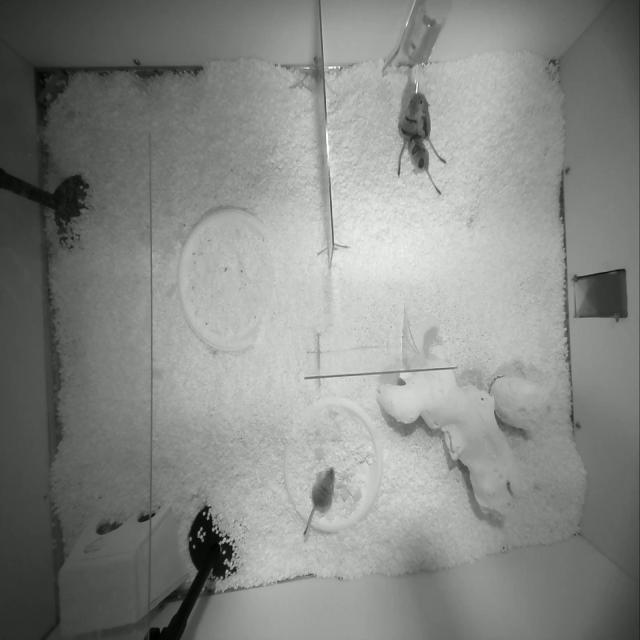pup_fluffy: (303, 467, 334, 535)
pup_h_stripe: (397, 93, 428, 175)
pup_spotted: (409, 136, 441, 194)
pup_v_stripe: (420, 94, 446, 163)
